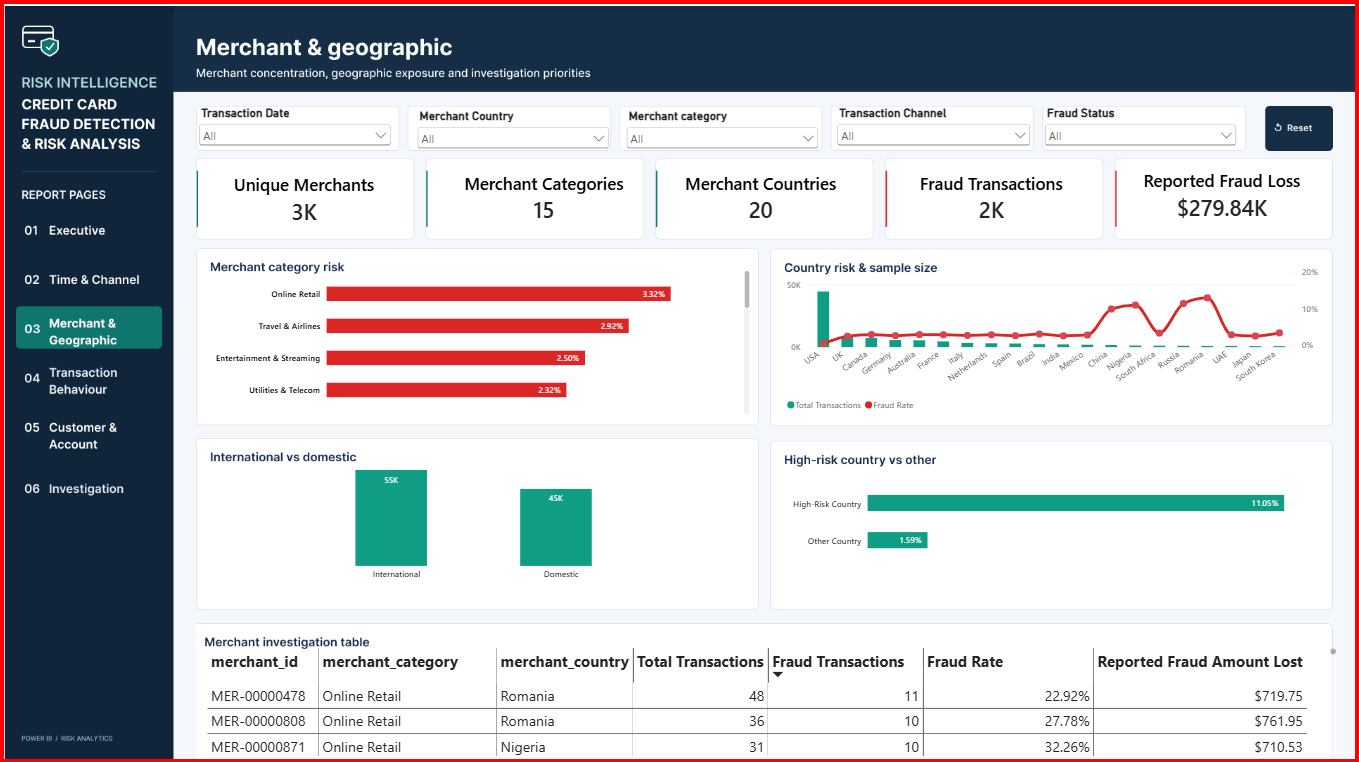

Layout of this report page (visuals, bound fields, positions):
{"tool":"powerbi","page":{"name":"Page 3","canvas":[1920,1080],"ordinal":2},"visuals":[{"type":"shape","box":[11.3,286,212,61.2],"z":0,"group":"g1"},{"type":"group","id":"g1","title":"Group 1","box":[11.3,286,212,415.2],"z":0},{"type":"shape","box":[1793.2,140.9,93.2,70.5],"z":1000},{"type":"shape","box":[11.3,347.2,212,61.2],"z":1000,"group":"g1"},{"type":"shape","box":[1793.2,138.6,93.2,70.4],"z":2000},{"type":"shape","box":[11.3,417.1,212,61.2],"z":2000,"group":"g1"},{"type":"cardVisual","fields":{"Data":["credit_card_fraud.Unique Merchants"]},"box":[270.5,222.7,308.7,106],"z":3000},{"type":"shape","box":[11.3,502.4,212,61.2],"z":3000,"group":"g1"},{"type":"cardVisual","fields":{"Data":["credit_card_fraud.Merchant Categories"]},"box":[611.4,220.5,308.7,106],"z":4000},{"type":"shape","box":[11.3,563.6,212,61.2],"z":4000,"group":"g1"},{"type":"cardVisual","fields":{"Data":["credit_card_fraud.Merchant Countries"]},"box":[920.5,220.5,308.7,106],"z":5000},{"type":"shape","box":[11.3,640,212,61.2],"z":5000,"group":"g1"},{"type":"cardVisual","fields":{"Data":["credit_card_fraud.Fraud Transactions"]},"box":[1248.9,221.5,308.7,106],"z":6000},{"type":"cardVisual","fields":{"Data":["credit_card_fraud.Reported Fraud Amount Lost"]},"box":[1576.4,212.1,308.7,115.5],"z":7000},{"type":"lineClusteredColumnComboChart","fields":{"Category":["credit_card_fraud.merchant_country"],"Y":["credit_card_fraud.Total Transactions"],"Y2":["credit_card_fraud.Fraud Rate"]},"box":[1095,355,787.5,242.5],"z":8000},{"type":"clusteredBarChart","fields":{"Category":["credit_card_fraud.merchant_category"],"Y":["credit_card_fraud.Fraud Rate"]},"box":[282.5,355,792.5,242.5],"z":9000},{"type":"clusteredColumnChart","fields":{"Category":["credit_card_fraud.International Status"],"Y":["credit_card_fraud.Total Transactions"]},"box":[270,625,805,212.5],"z":10000},{"type":"clusteredBarChart","fields":{"Category":["credit_card_fraud.Country Risk Status"],"Y":["credit_card_fraud.Fraud Rate"]},"box":[1095,625,790,212.5],"z":11000},{"type":"tableEx","fields":{"Values":["credit_card_fraud.merchant_id","credit_card_fraud.merchant_category","credit_card_fraud.merchant_country","credit_card_fraud.Total Transactions","credit_card_fraud.Fraud Transactions","credit_card_fraud.Fraud Rate","credit_card_fraud.Reported Fraud Amount Lost"]},"box":[270,897.5,1637.5,182.5],"z":12000},{"type":"group","id":"g2","title":"Group 2","box":[272,142,1484,72],"z":12001},{"type":"slicer","fields":{"Values":["credit_card_fraud.transaction_date.Variation.Date Hierarchy.Month","credit_card_fraud.transaction_date.Variation.Date Hierarchy.Day"]},"box":[272,142,282,68],"z":13000,"group":"g2"},{"type":"slicer","fields":{"Values":["credit_card_fraud.merchant_country"]},"box":[582,146,282,60],"z":14000,"group":"g2"},{"type":"slicer","fields":{"Values":["credit_card_fraud.transaction_channel"]},"box":[1180,142,284,66],"z":15000,"group":"g2"},{"type":"slicer","fields":{"Values":["credit_card_fraud.Fraud Status Label"]},"box":[1474,142,282,68],"z":16000,"group":"g2"},{"type":"slicer","fields":{"Values":["credit_card_fraud.merchant_category"]},"box":[880,146,282,68],"z":17000,"group":"g2"}]}

Visuals, with their boxes on the page's 1920x1080 design canvas (x1, y1, x2, y2). These are canvas units, not pixel positions in the 1359x762 screenshot, which may show the page scaled, cropped or inside an application window:
shape: x1=11 y1=286 x2=223 y2=347
"Group 1" group: x1=11 y1=286 x2=223 y2=701
shape: x1=1793 y1=141 x2=1886 y2=211
shape: x1=11 y1=347 x2=223 y2=408
shape: x1=1793 y1=139 x2=1886 y2=209
shape: x1=11 y1=417 x2=223 y2=478
cardVisual - credit_card_fraud.Unique Merchants: x1=270 y1=223 x2=579 y2=329
shape: x1=11 y1=502 x2=223 y2=564
cardVisual - credit_card_fraud.Merchant Categories: x1=611 y1=220 x2=920 y2=326
shape: x1=11 y1=564 x2=223 y2=625
cardVisual - credit_card_fraud.Merchant Countries: x1=920 y1=220 x2=1229 y2=326
shape: x1=11 y1=640 x2=223 y2=701
cardVisual - credit_card_fraud.Fraud Transactions: x1=1249 y1=222 x2=1558 y2=328
cardVisual - credit_card_fraud.Reported Fraud Amount Lost: x1=1576 y1=212 x2=1885 y2=328
lineClusteredColumnComboChart - credit_card_fraud.merchant_country x credit_card_fraud.Total Transactions: x1=1095 y1=355 x2=1882 y2=598
clusteredBarChart - credit_card_fraud.merchant_category x credit_card_fraud.Fraud Rate: x1=282 y1=355 x2=1075 y2=598
clusteredColumnChart - credit_card_fraud.International Status x credit_card_fraud.Total Transactions: x1=270 y1=625 x2=1075 y2=838
clusteredBarChart - credit_card_fraud.Country Risk Status x credit_card_fraud.Fraud Rate: x1=1095 y1=625 x2=1885 y2=838
tableEx - credit_card_fraud.merchant_id x credit_card_fraud.merchant_category: x1=270 y1=898 x2=1908 y2=1080
"Group 2" group: x1=272 y1=142 x2=1756 y2=214
slicer - credit_card_fraud.transaction_date.Variation.Date Hierarchy.Month x credit_card_fraud.transaction_date.Variation.Date Hierarchy.Day: x1=272 y1=142 x2=554 y2=210
slicer - credit_card_fraud.merchant_country: x1=582 y1=146 x2=864 y2=206
slicer - credit_card_fraud.transaction_channel: x1=1180 y1=142 x2=1464 y2=208
slicer - credit_card_fraud.Fraud Status Label: x1=1474 y1=142 x2=1756 y2=210
slicer - credit_card_fraud.merchant_category: x1=880 y1=146 x2=1162 y2=214
